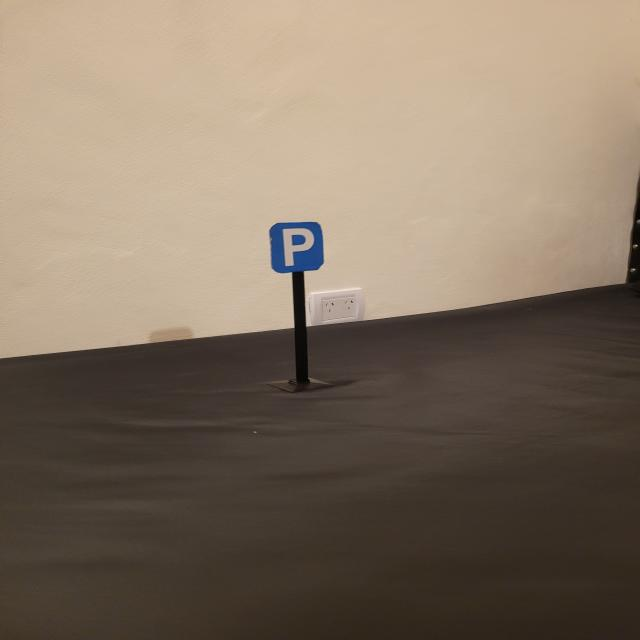parking: (268, 221, 326, 274)
